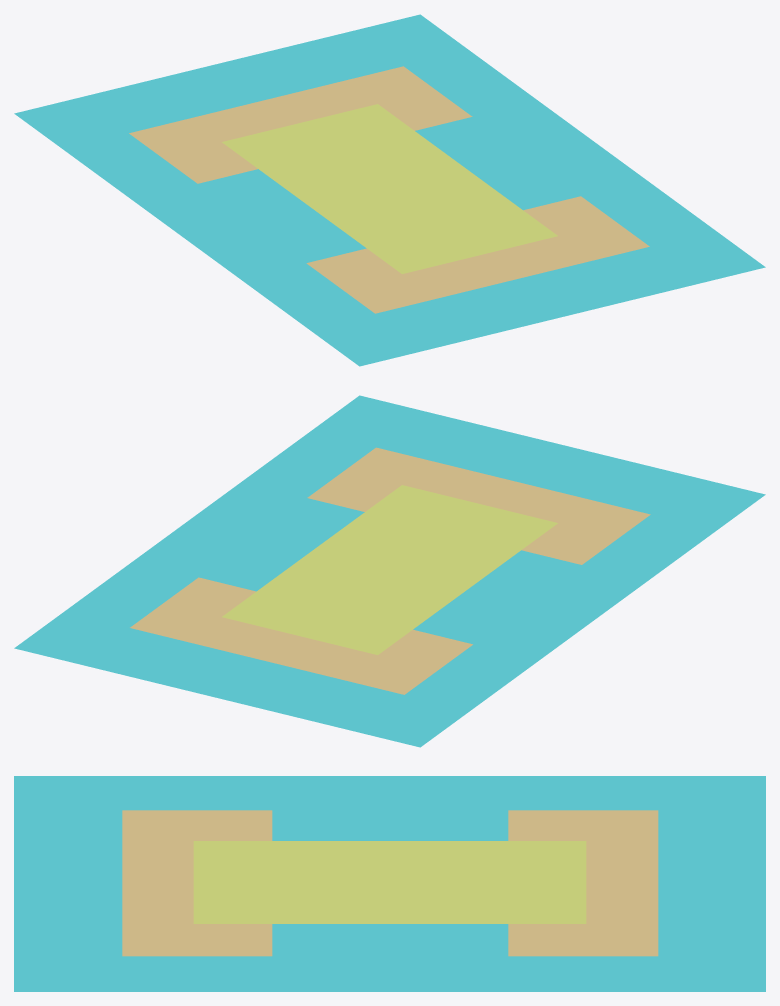
The model's file is 决竞球场地.glb.
The picture shows the model from 3 angles, top to bottom: view 1: azimuth 30°, elevation 25°; view 2: azimuth 150°, elevation 25°; view 3: azimuth 270°, elevation 25°; orthographic projection. The views are drawn at different scales.
Visible parts, largest first — view 1: 平面.001, 平面, 平面.002, 平面.003; view 2: 平面.001, 平面, 平面.003, 平面.002; view 3: 平面.001, 平面, 平面.003, 平面.002.
Boxes of the visible parts, x1,y1,x2,y2 form: 平面.001: (14, 14, 765, 366); 平面: (222, 104, 557, 273); 平面.002: (306, 196, 649, 313); 平面.003: (129, 66, 472, 183); 平面.001: (14, 395, 765, 747); 平面: (222, 485, 557, 654); 平面.003: (130, 577, 472, 694); 平面.002: (307, 447, 650, 564); 平面.001: (14, 776, 765, 991); 平面: (193, 841, 586, 923); 平面.003: (508, 810, 658, 956); 平面.002: (122, 810, 272, 956).
Size of the model in its own units: 25.82 by 0.0837 by 38.03.
